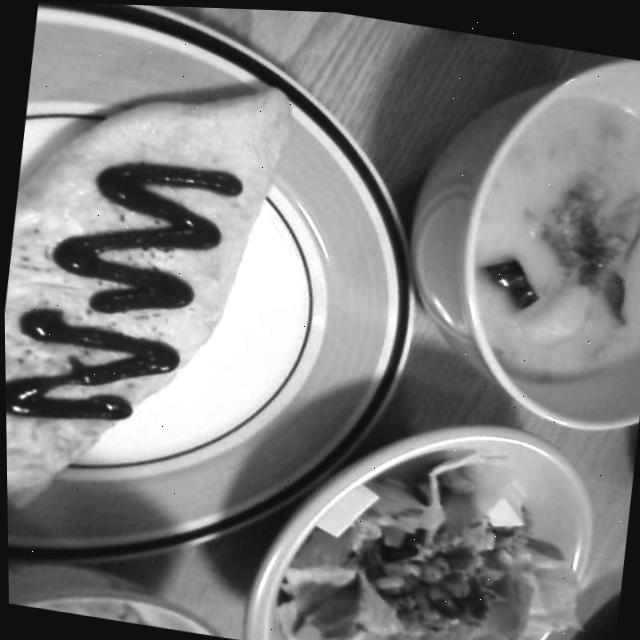鸡蛋料理: (0, 35, 284, 569)
